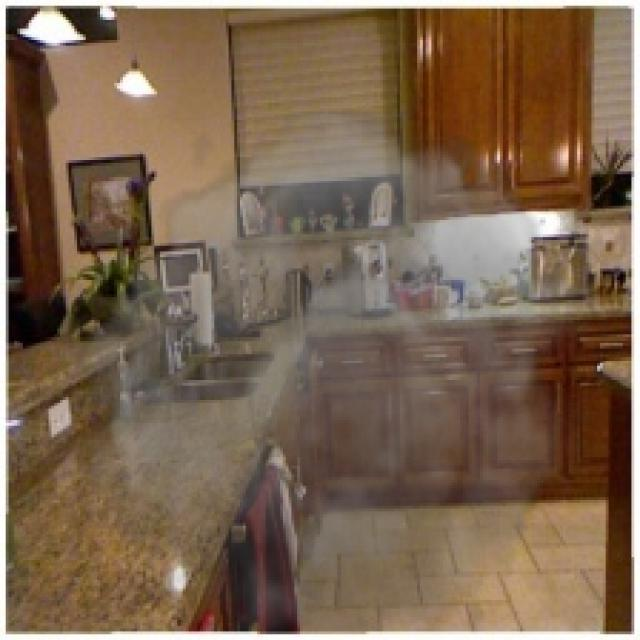smoke: (54, 111, 603, 632)
